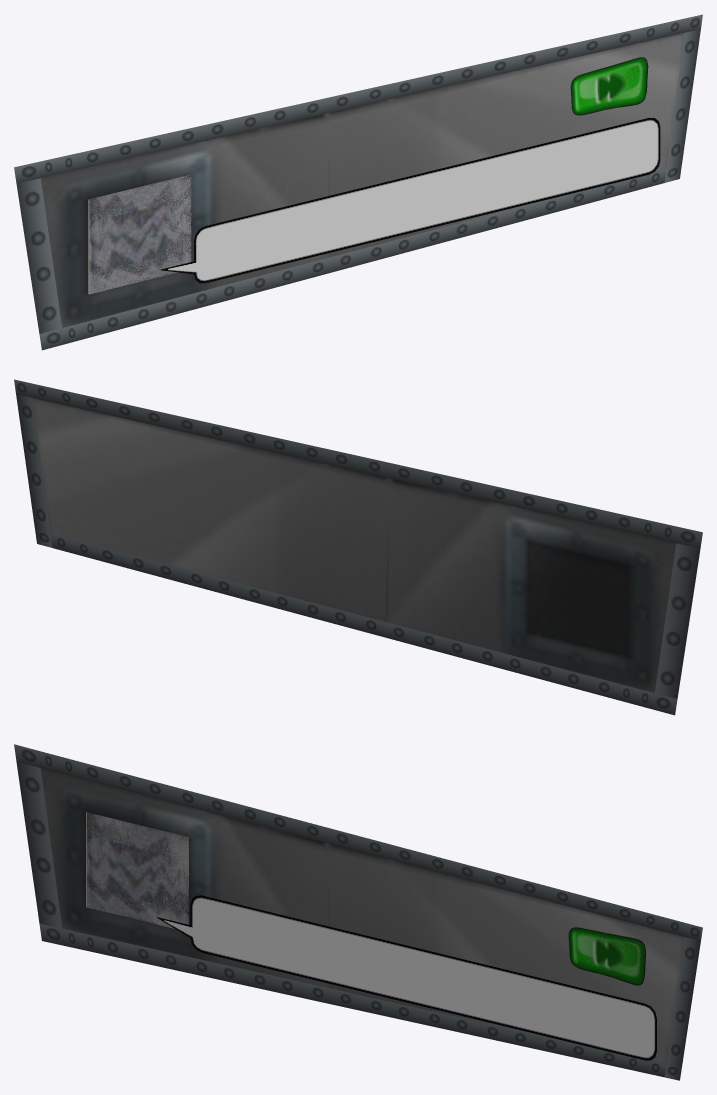
Rendered from field_flythru.glb.
3 views of the same model, one above another, from view 1: azimuth 30°, elevation 25°; view 2: azimuth 150°, elevation 25°; view 3: azimuth 330°, elevation 25° (orthographic).
Parts seen in each view (by area): view 1: background, chatBubble, staticScreen, blankScreen, buttonUp, buttonDown; view 2: background; view 3: background, chatBubble, staticScreen, blankScreen, buttonUp, buttonDown.
Boxes of the visible parts, x1,y1,x2,y2 form: background: [14, 14, 702, 350]; chatBubble: [161, 117, 660, 283]; staticScreen: [89, 174, 191, 293]; blankScreen: [88, 174, 191, 294]; buttonUp: [571, 57, 648, 115]; buttonDown: [579, 58, 648, 115]; background: [14, 379, 702, 715]; background: [14, 744, 702, 1080]; chatBubble: [157, 895, 656, 1060]; staticScreen: [87, 812, 188, 928]; blankScreen: [86, 812, 188, 928]; buttonUp: [569, 927, 645, 984]; buttonDown: [570, 928, 645, 985].
Size of the model in its own units: 0.4719 by 0.1243 by 0.00212.
3 materials, 2 textured.
